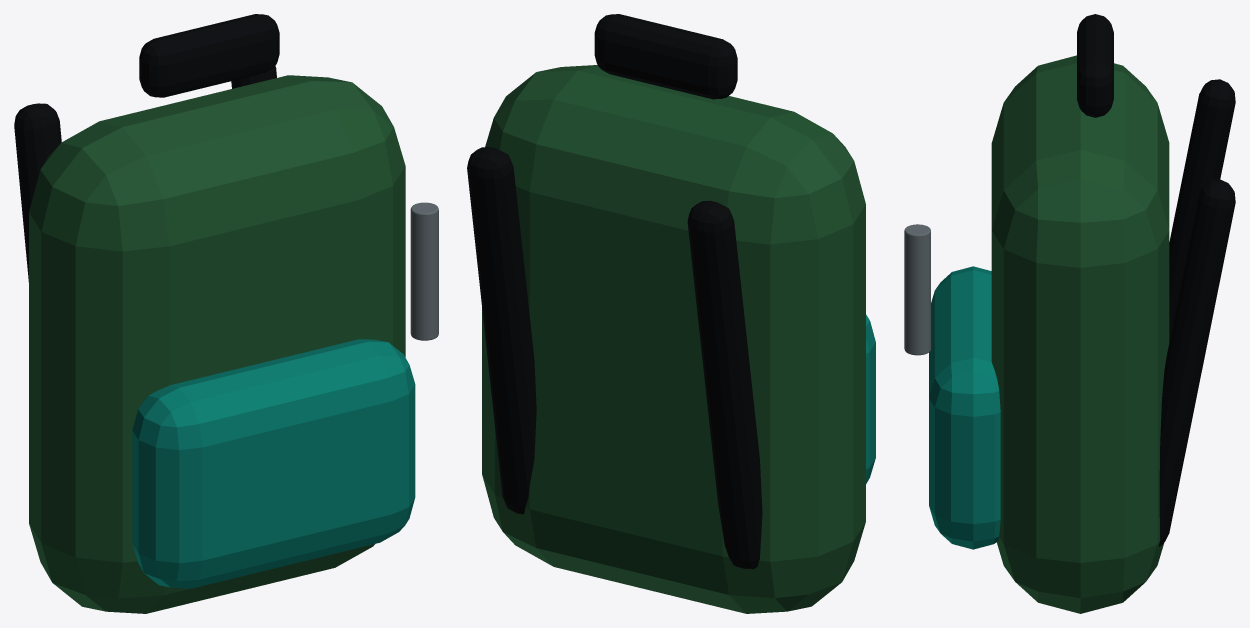
File: SM_SchoolBackpack_Realistic.obj
3 views of the same model, side by side, from view 1: azimuth 30°, elevation 25°; view 2: azimuth 150°, elevation 25°; view 3: azimuth 270°, elevation 25° (orthographic). The views are drawn at different scales.
Parts seen in each view (by area): view 1: Body.002, FrontPocket, Handle, Zipper, Strap-0.16; view 2: Body.002, Strap-0.16, Strap0.16, Handle, FrontPocket; view 3: Body.002, FrontPocket, Strap0.16, Strap-0.16, Handle, Zipper.
Boxes of the visible parts, left/top/right/bottom form: Body.002: left=29, top=75, right=405, bottom=613; FrontPocket: left=132, top=339, right=415, bottom=588; Handle: left=139, top=14, right=279, bottom=97; Zipper: left=410, top=202, right=438, bottom=340; Strap-0.16: left=14, top=103, right=61, bottom=281; Body.002: left=482, top=65, right=865, bottom=613; Strap-0.16: left=687, top=200, right=762, bottom=569; Strap0.16: left=467, top=147, right=536, bottom=514; Handle: left=594, top=14, right=737, bottom=99; FrontPocket: left=866, top=314, right=875, bottom=483; Body.002: left=991, top=55, right=1169, bottom=613; FrontPocket: left=929, top=266, right=1000, bottom=549; Strap0.16: left=1159, top=179, right=1235, bottom=546; Strap-0.16: left=1169, top=79, right=1235, bottom=341; Handle: left=1077, top=14, right=1113, bottom=117; Zipper: left=904, top=224, right=930, bottom=355.
Size of the model in its own units: 0.52 by 0.78 by 0.4474.
